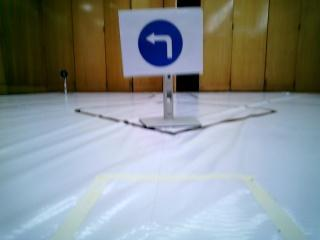left: (119, 7, 202, 68)
